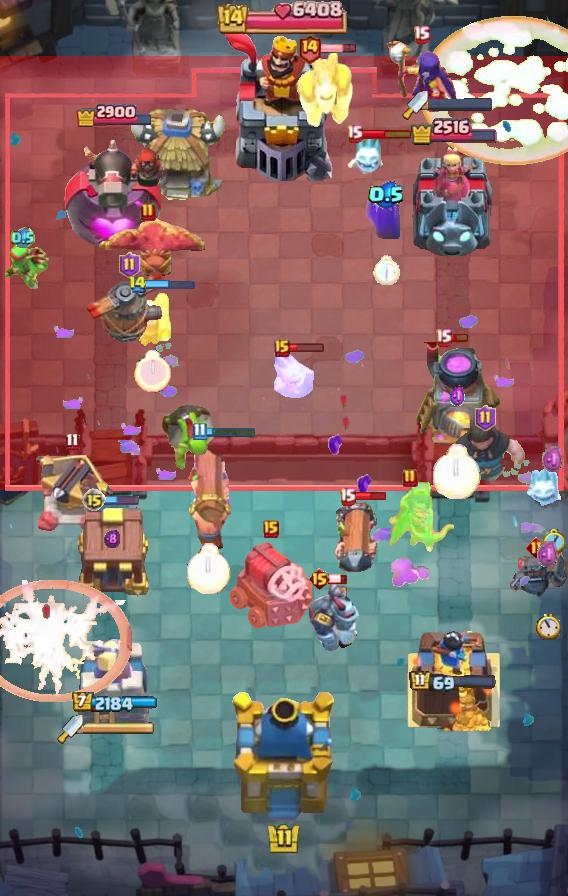axe: (383, 39, 459, 113)
bar: (409, 142, 497, 256), (77, 637, 151, 731)
bar-level: (159, 402, 217, 474)
barbarian-evolution: (0, 580, 132, 702)
barbarian-hut: (385, 480, 457, 554)
bat: (272, 352, 316, 398), (345, 136, 390, 178), (524, 469, 568, 509)
battle-healer: (185, 437, 233, 551), (333, 498, 381, 580)
battle-ram: (508, 549, 568, 599)
bomb: (72, 504, 152, 598)
clock: (217, 0, 351, 34)
dark-prince: (80, 267, 178, 349)
electro-spirit: (367, 181, 404, 209), (542, 446, 565, 475), (537, 540, 560, 569), (11, 227, 35, 249), (451, 384, 465, 407), (104, 529, 120, 549)
elixir: (433, 445, 481, 500), (187, 543, 231, 594), (134, 351, 171, 394), (372, 254, 400, 285), (536, 613, 561, 640), (542, 530, 565, 555)
elixir-golem-small: (294, 49, 356, 129), (307, 582, 367, 652)
emote: (144, 277, 196, 290), (359, 128, 412, 140), (204, 426, 257, 438), (104, 494, 140, 506), (352, 490, 387, 502), (319, 42, 356, 53), (287, 343, 324, 354), (328, 573, 348, 585), (449, 332, 469, 343)
giant-snowball: (0, 238, 50, 292)
golem: (229, 540, 313, 630)
hunter: (412, 342, 502, 450)
king-tower: (223, 31, 345, 181), (227, 692, 341, 826)
king-tower-bar: (83, 722, 155, 736), (428, 97, 492, 110)
lava-pup: (31, 455, 113, 535)
mother-witch: (91, 216, 205, 282)
phoenix-big: (420, 15, 568, 164)
prince: (126, 109, 228, 205)
queen-tower: (405, 621, 501, 731)
royal-hog: (442, 421, 528, 495)
selected: (410, 116, 499, 146), (409, 670, 497, 694), (74, 101, 154, 126), (71, 692, 157, 714)
spear-goblin: (366, 189, 406, 239)
text: (298, 32, 323, 63), (82, 488, 106, 512), (308, 567, 331, 591), (119, 252, 140, 278), (476, 405, 497, 431), (525, 537, 547, 559), (129, 274, 148, 293), (339, 486, 357, 505), (435, 329, 453, 347), (414, 24, 431, 43), (345, 125, 362, 144), (140, 202, 156, 222), (402, 468, 418, 488), (274, 339, 290, 357), (263, 520, 279, 538), (65, 433, 80, 452), (193, 423, 208, 441)
tombstone: (131, 290, 173, 348)
tower-bar: (60, 132, 167, 256)
